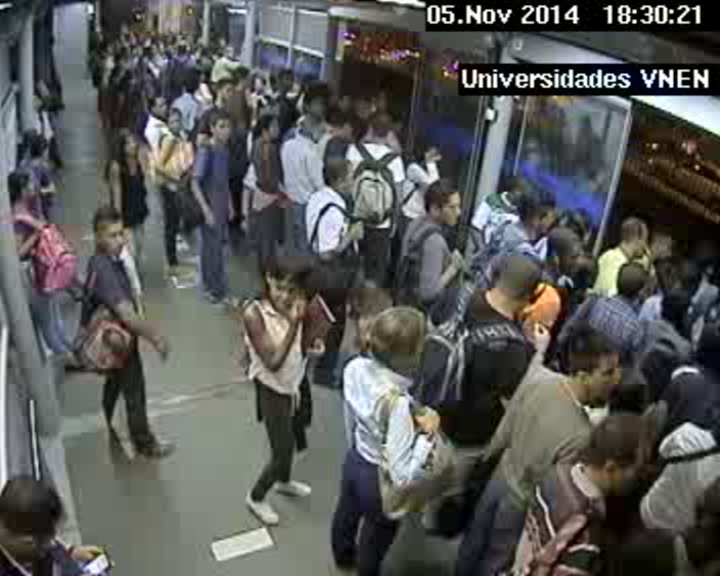person: (1, 474, 71, 562), (586, 416, 654, 495), (557, 328, 625, 406), (368, 305, 432, 373), (494, 247, 546, 308), (260, 256, 307, 314), (88, 208, 131, 258), (425, 179, 467, 230), (519, 189, 557, 234), (547, 232, 582, 274), (688, 322, 720, 366), (322, 155, 357, 194), (614, 216, 648, 256), (615, 260, 649, 298), (6, 172, 41, 208), (110, 127, 142, 163), (646, 228, 678, 263), (569, 252, 600, 287), (659, 290, 690, 324), (253, 113, 283, 145), (670, 260, 699, 293), (333, 109, 360, 140), (296, 113, 322, 145), (301, 88, 328, 118), (414, 138, 441, 168), (206, 111, 231, 143), (506, 176, 532, 206), (369, 114, 394, 145), (568, 207, 594, 236), (373, 89, 400, 116), (209, 77, 233, 105), (163, 108, 186, 136), (147, 93, 172, 118), (177, 72, 200, 99), (275, 69, 296, 95), (249, 74, 269, 95), (233, 65, 252, 87), (15, 143, 32, 160), (31, 69, 43, 82), (194, 32, 206, 44), (224, 46, 235, 58), (217, 37, 228, 48), (178, 42, 189, 52), (103, 42, 113, 53), (129, 33, 139, 43), (151, 43, 160, 54), (120, 23, 129, 34), (129, 44, 138, 54), (142, 47, 151, 57), (143, 36, 152, 46), (148, 29, 157, 39), (201, 48, 210, 58), (163, 48, 171, 57), (120, 33, 128, 42), (120, 46, 127, 55), (167, 34, 174, 43)
